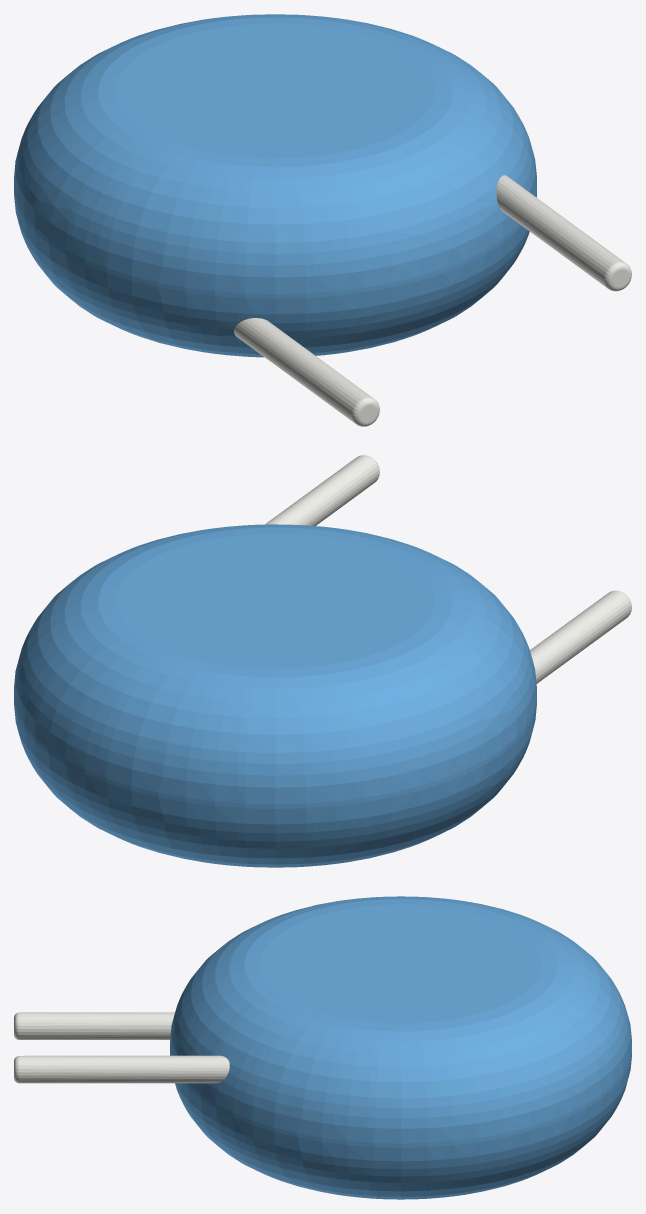
File: RV_Disc_D9mm_W3.6mm_P5mm.glb
3 renders of one model, top to bottom at view 1: azimuth 30°, elevation 25°; view 2: azimuth 150°, elevation 25°; view 3: azimuth 270°, elevation 25°, orthographic. The views are drawn at different scales.
Visible parts, largest first — view 1: Shape_IndexedFaceSet.001, Shape_IndexedFaceSet.003, Shape_IndexedFaceSet.002, Shape_IndexedFaceSet.006, Shape_IndexedFaceSet.004, Shape_IndexedFaceSet; view 2: Shape_IndexedFaceSet.001, Shape_IndexedFaceSet.003, Shape_IndexedFaceSet.002, Shape_IndexedFaceSet.006, Shape_IndexedFaceSet.004, Shape_IndexedFaceSet; view 3: Shape_IndexedFaceSet.001, Shape_IndexedFaceSet.003, Shape_IndexedFaceSet.002, Shape_IndexedFaceSet.004, Shape_IndexedFaceSet.006, Shape_IndexedFaceSet.
Part boxes in pixels (bbox=[...]): Shape_IndexedFaceSet.001: bbox=[14, 14, 536, 294]; Shape_IndexedFaceSet.003: bbox=[116, 23, 434, 158]; Shape_IndexedFaceSet.002: bbox=[14, 195, 536, 357]; Shape_IndexedFaceSet.006: bbox=[234, 318, 372, 422]; Shape_IndexedFaceSet.004: bbox=[496, 175, 624, 287]; Shape_IndexedFaceSet: bbox=[14, 191, 536, 298]; Shape_IndexedFaceSet.001: bbox=[14, 524, 536, 804]; Shape_IndexedFaceSet.003: bbox=[116, 533, 434, 668]; Shape_IndexedFaceSet.002: bbox=[14, 705, 536, 867]; Shape_IndexedFaceSet.006: bbox=[530, 591, 630, 683]; Shape_IndexedFaceSet.004: bbox=[265, 455, 378, 525]; Shape_IndexedFaceSet: bbox=[14, 700, 536, 808]; Shape_IndexedFaceSet.001: bbox=[170, 896, 631, 1143]; Shape_IndexedFaceSet.003: bbox=[260, 904, 541, 1023]; Shape_IndexedFaceSet.002: bbox=[175, 1056, 631, 1199]; Shape_IndexedFaceSet.004: bbox=[19, 1055, 229, 1083]; Shape_IndexedFaceSet.006: bbox=[19, 1012, 174, 1039]; Shape_IndexedFaceSet: bbox=[170, 1052, 631, 1147].
Bounding box in the file's own units: 3.54 × 1.42 × 4.73.
